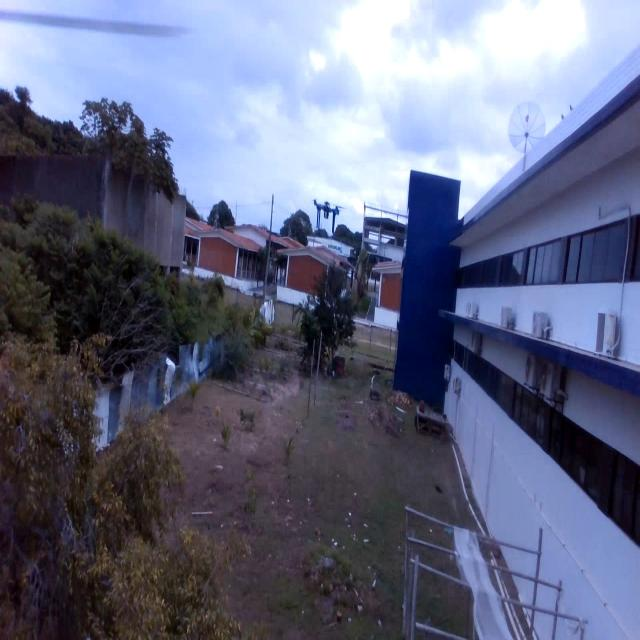-uav-: (306, 184, 352, 249)
